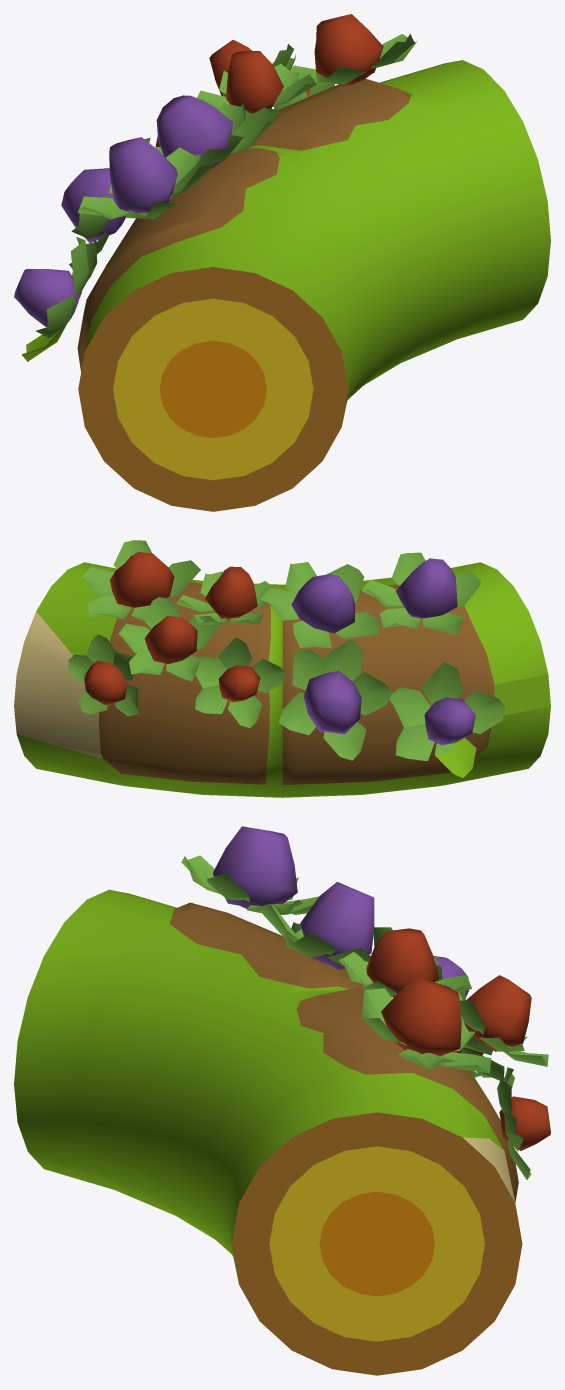
Rendered from Station_Segment_05.fbx.
3 views of the same model, one above another, from view 1: azimuth 30°, elevation 25°; view 2: azimuth 150°, elevation 25°; view 3: azimuth 270°, elevation 25° (orthographic). The views are drawn at different scales.
Visible parts, largest first — view 1: Station_Segment_05_Full; view 2: Station_Segment_05_Full; view 3: Station_Segment_05_Full.
Part boxes in pixels (box(x1,y1,x2,y2)): Station_Segment_05_Full: box(14, 14, 550, 511); Station_Segment_05_Full: box(14, 540, 550, 797); Station_Segment_05_Full: box(14, 826, 550, 1375).
Size of the model in its own units: 866 by 514 by 739.
1 material, 1 textured.
